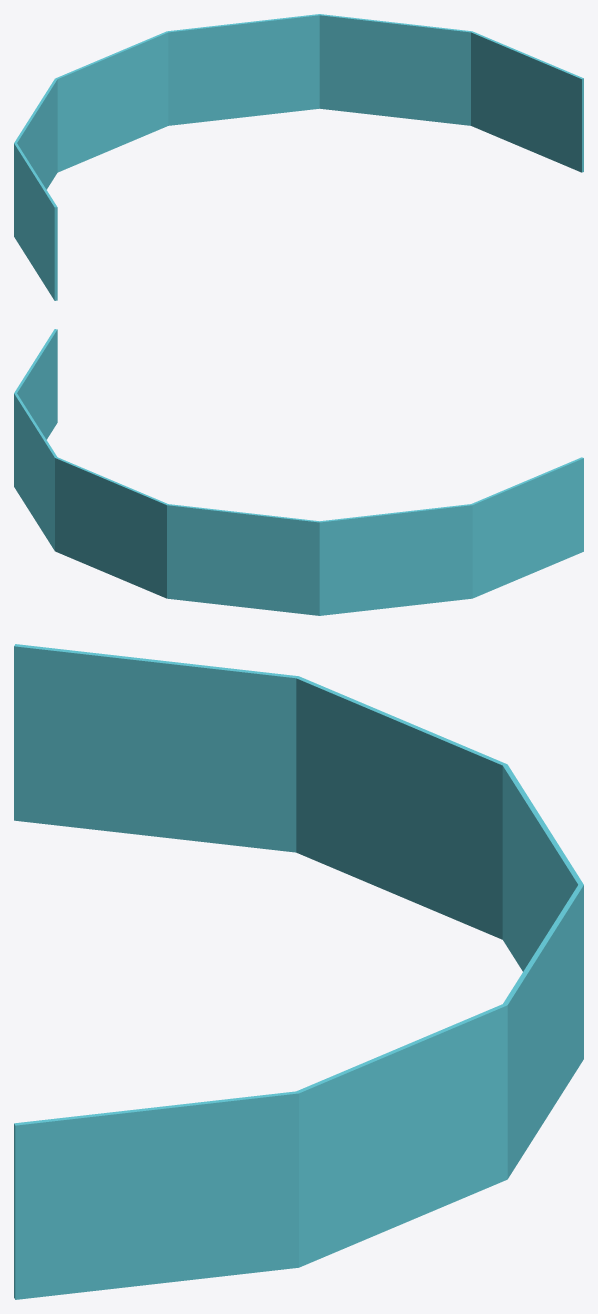
Rendered from dm_screen.glb.
The picture shows the model from 3 angles, top to bottom: view 1: azimuth 30°, elevation 25°; view 2: azimuth 150°, elevation 25°; view 3: azimuth 270°, elevation 25°; orthographic projection. The views are drawn at different scales.
Parts seen in each view (by area): view 1: Pantalla; view 2: Pantalla; view 3: Pantalla.
Part boxes in pixels (x1,y1,x2,y2): Pantalla: [14, 14, 583, 300]; Pantalla: [14, 329, 583, 615]; Pantalla: [14, 644, 583, 1299].
Size of the model in its own units: 107 by 18.13 by 53.72.
